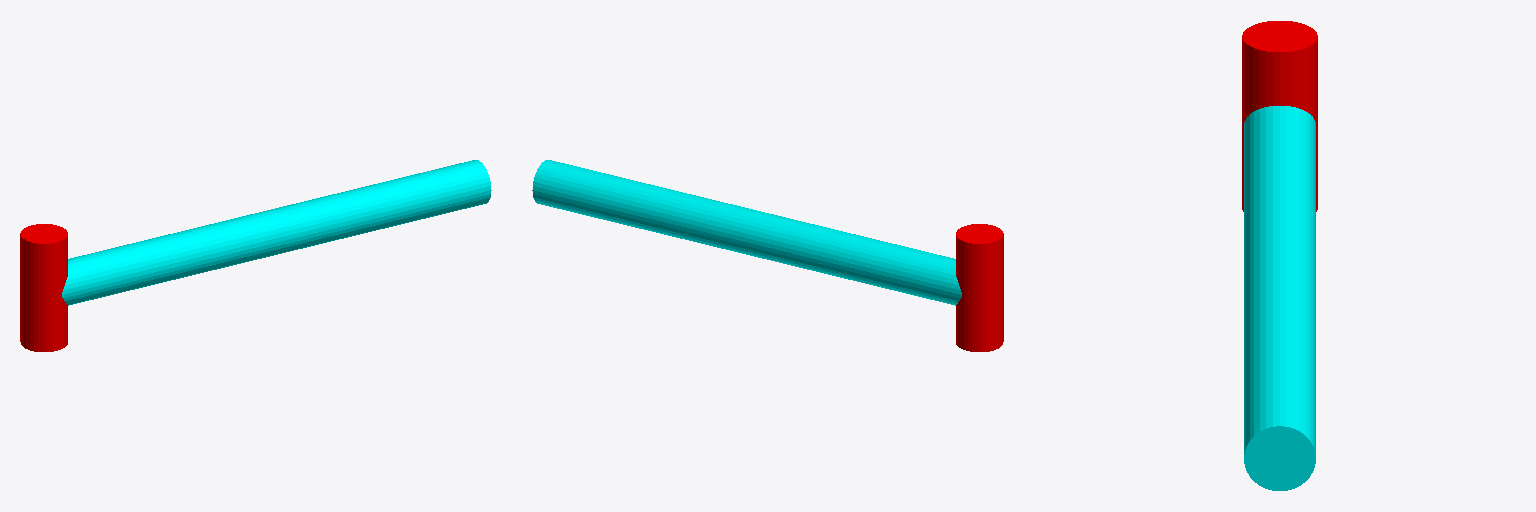
robot.urdf — planar_2d:
<?xml version="1.0" ?>
<robot name="planar_2d">
    <link name="base_link">
        <visual>
            <origin rpy="0 0 0" xyz="0 0 .05"/>
            <geometry>
                <cylinder length=".1" radius=".02"/>
            </geometry>
            <material name="Red">
                <color rgba="1.0 0.0 0.0 1.0"/>
            </material>
        </visual>
    </link>
    <link name="link1">
        <visual>
            <origin rpy="0 1.57079 0" xyz="0.0635635 0 0"/>
            <geometry>
                <cylinder length="0.127127" radius=".01905"/>
            </geometry>
            <material name="Cyan">
                <color rgba="0 1.0 1.0 1.0"/>
            </material>
        </visual>
    </link>
    <link name="link2">
        <visual>
            <origin rpy="0 1.57079 0" xyz="0.0733425 0 0"/>
            <geometry>
                <cylinder length="0.146685" radius="0.01905"/>
            </geometry>
            <material name="Cyan">
                <color rgba="0 1.0 1.0 1.0"/>
            </material>
        </visual>
    </link>
    <link name="link3">
        <visual>
            <origin rpy="0 1.57079 0" xyz="0.0733425 0 0"/>
            <geometry>
                <cylinder length="0.146685" radius="0.01905"/>
            </geometry>
            <material name="Cyan">
                <color rgba="0 1.0 1.0 1.0"/>
            </material>
        </visual>
    </link>
    <link name="link4" />
    <joint name="joint1" type="revolute">
        <parent link="base_link"/>
        <child link="link1"/>
        <origin rpy="0 0 0" xyz="0 0 .05"/>
        <axis xyz="0 0 1"/>
        <limit effort="100" lower="-2.96705972839" upper="2.96705972839" velocity="1.91986217719" />
    </joint>
    <joint name="joint2" type="revolute">
        <parent link="link1"/>
        <child link="link2"/>
        <origin rpy="0 0 0" xyz="0.127127 0 0"/>
        <axis xyz="0 0 1"/>
        <limit effort="100" lower="-2.96705972839" upper="2.96705972839" velocity="1.91986217719" />
    </joint>
    <joint name="joint3" type="revolute">
        <parent link="link2"/>
        <child link="link3"/>
        <origin rpy="0 0 0" xyz="0.146685 0 0"/>
        <axis xyz="0 0 1"/>
        <limit effort="100" lower="-2.96705972839" upper="2.96705972839" velocity="1.91986217719" />
    </joint>
    <joint name="end_effector" type="fixed">
        <parent link="link3"/>
        <child link="link4"/>
        <origin rpy="0 0 0" xyz="0.146685 0 0"/>
    </joint>
</robot>

--- What the picture shows (computed from the rendered views, not written in the file) ---
3 views of the same robot in one strip: view 1: azimuth 30°, elevation 25°; view 2: azimuth 150°, elevation 25°; view 3: azimuth 270°, elevation 25° (orthographic).
Model planar_2d with 5 links and 4 joints (3 revolute, 1 fixed), rooted at base_link, posed every joint at zero.
Links seen in each view (by area): view 1: link3, link2, base_link, link1; view 2: link3, link2, base_link, link1; view 3: link3, link2, base_link, link1.
Link boxes in pixels (x1,y1,x2,y2): link3: (324, 160, 491, 239); link2: (173, 197, 338, 277); base_link: (20, 224, 67, 351); link1: (62, 234, 186, 305); link3: (532, 160, 699, 239); link2: (685, 197, 850, 277); base_link: (956, 224, 1003, 351); link1: (837, 234, 961, 305); link3: (1244, 309, 1315, 490); link2: (1244, 191, 1315, 335); base_link: (1242, 21, 1317, 211); link1: (1244, 106, 1315, 218).
Bounding box of the posed robot: 0.4405 × 0.04 × 0.1 m (x, y, z).
Geometry: primitives only (box / cylinder / sphere), no mesh files.